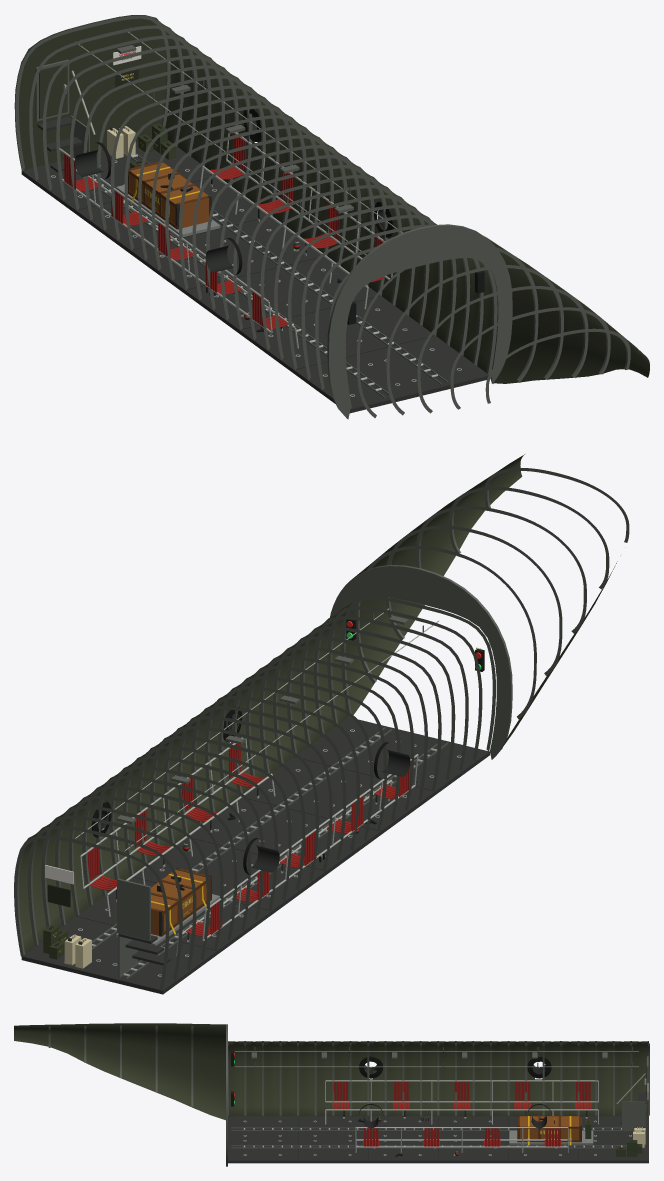
File: c130-hold.glb
3 renders of one model, top to bottom at view 1: azimuth 30°, elevation 25°; view 2: azimuth 150°, elevation 25°; view 3: azimuth 270°, elevation 25°, orthographic. The views are drawn at different scales.
Visible parts, largest first — view 1: C130_Hold; view 2: C130_Hold; view 3: C130_Hold.
Part boxes in pixels (bbox=[...]): C130_Hold: bbox=[14, 15, 649, 419]; C130_Hold: bbox=[14, 454, 629, 994]; C130_Hold: bbox=[14, 1023, 649, 1166].
Bounding box in the file's own units: 4.27 × 3.65 × 18.88.
